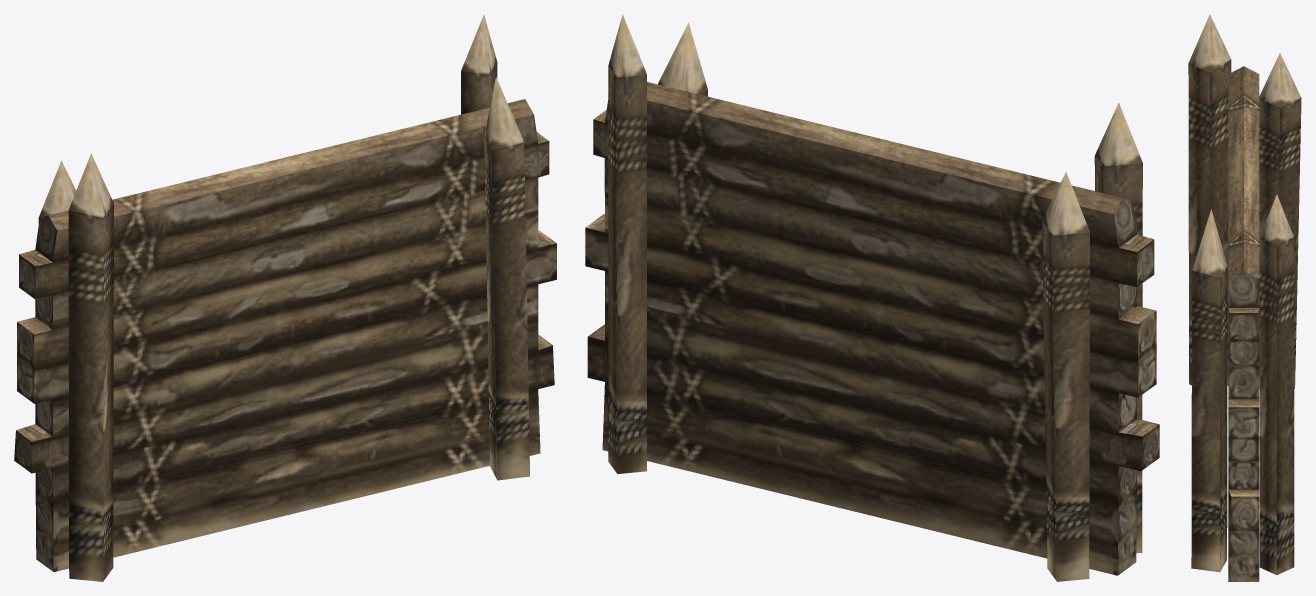
The model's file is SC_tamalagebi_37.FBX.
The picture shows the model from 3 angles, left to right: view 1: azimuth 30°, elevation 25°; view 2: azimuth 150°, elevation 25°; view 3: azimuth 270°, elevation 25°; orthographic projection. The views are drawn at different scales.
Parts seen in each view (by area): view 1: SC_tamalagebi_37; view 2: SC_tamalagebi_37; view 3: SC_tamalagebi_37.
Boxes of the visible parts, x1,y1,x2,y2 form: SC_tamalagebi_37: (14,14,556,581); SC_tamalagebi_37: (585,14,1159,581); SC_tamalagebi_37: (1188,14,1301,581).
Bounding box in the file's own units: 716 × 556 × 152.
